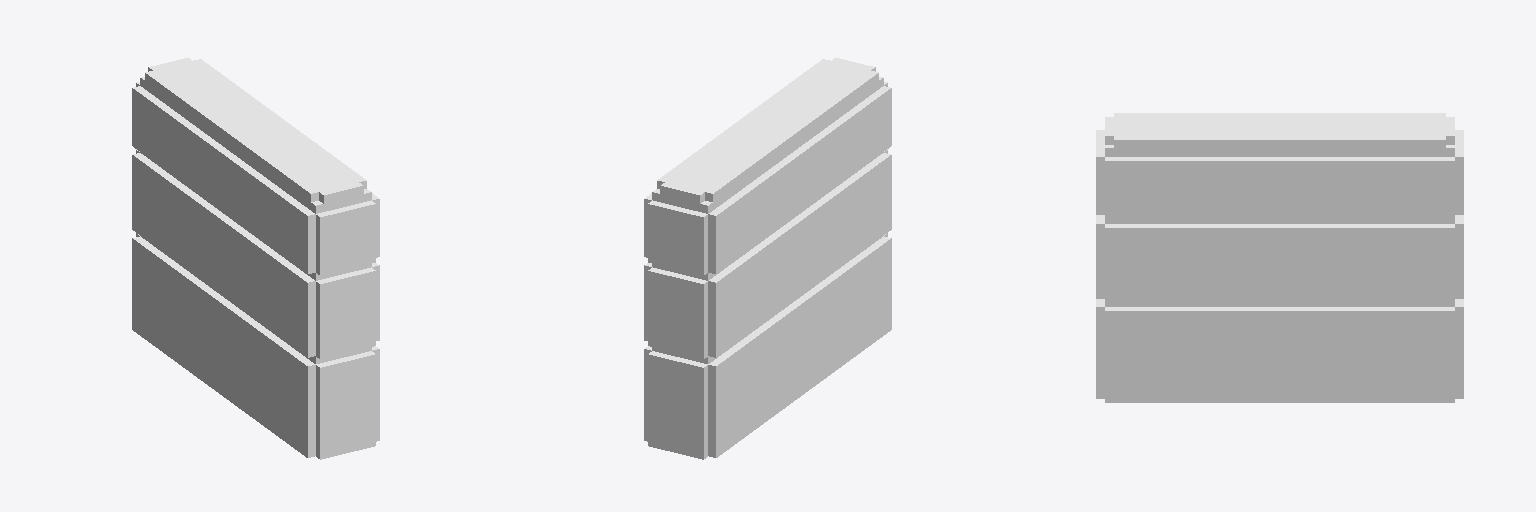
File: muro_laberinto.obj
The picture shows the model from 3 angles: view 1: azimuth 30°, elevation 25°; view 2: azimuth 150°, elevation 25°; view 3: azimuth 270°, elevation 25°; orthographic projection.
Visible parts, largest first — view 1: object 1; view 2: object 1; view 3: object 1.
Boxes of the visible parts, <box> form: object 1: <box>132,58,379,459</box>; object 1: <box>644,58,891,459</box>; object 1: <box>1096,113,1463,402</box>.
Bounding box in the file's own units: 0.9 × 3.1 × 4.